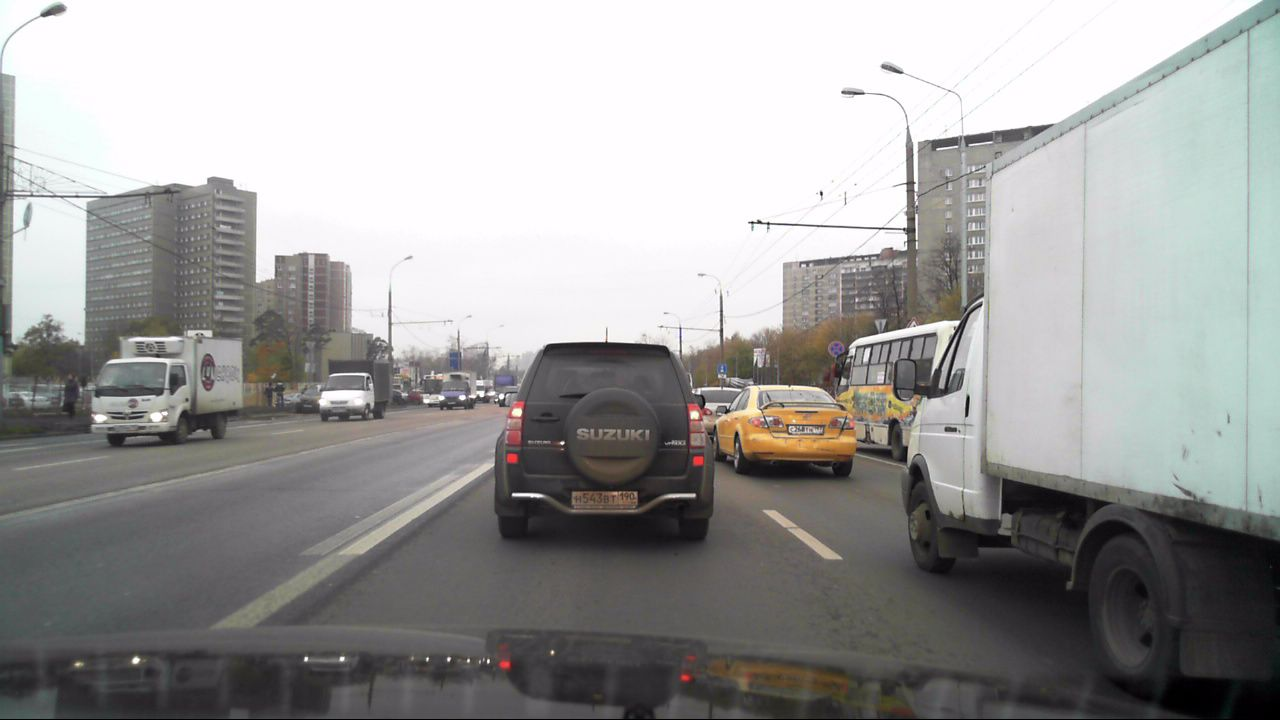No Parking: (827, 340, 845, 357)
